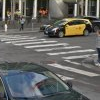crosswalk: (0, 35, 97, 59), (41, 59, 100, 80)
